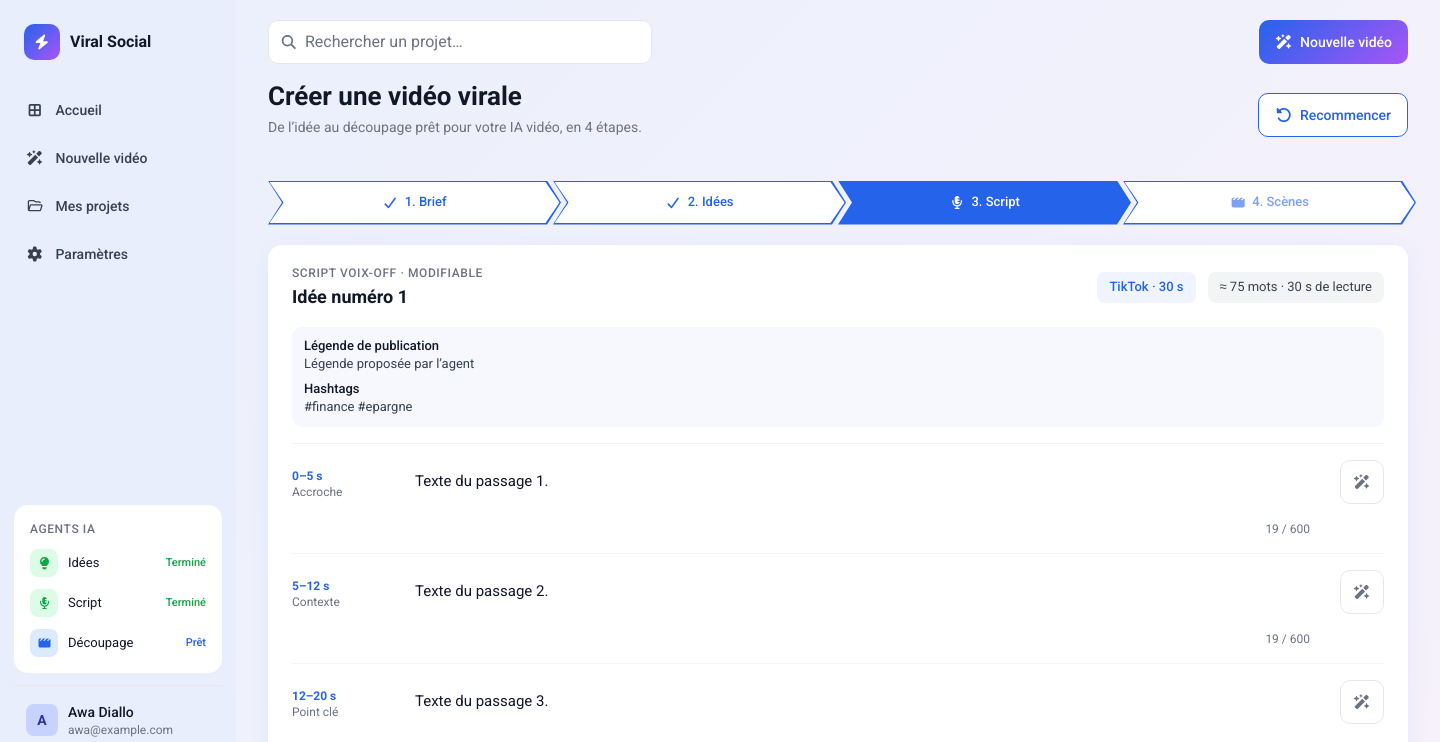
Test: ProjectWizard › permet de revenir à une étape validée sans changer le statut
Click the button "1. Brief" at (414, 202), box [270, 182, 560, 223]
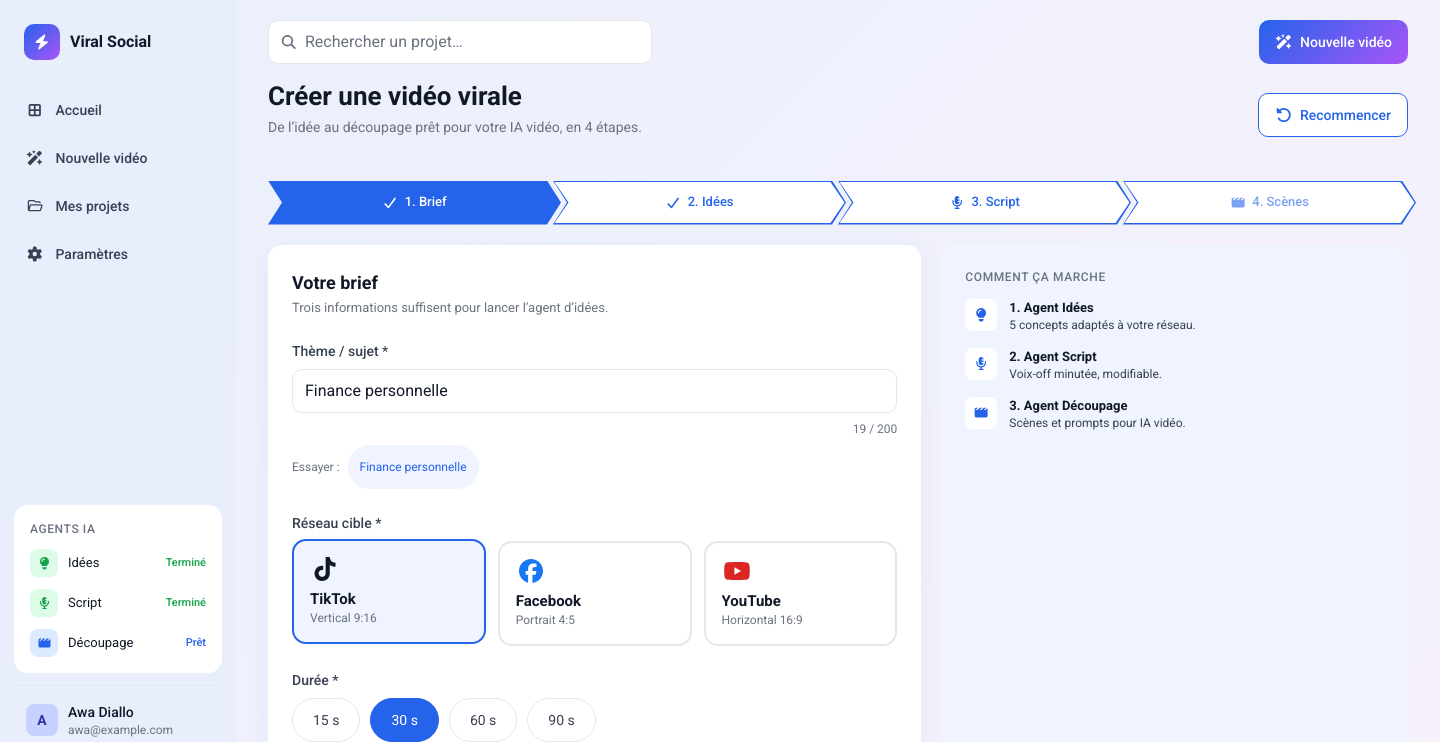
Result: the field labelled "Thème / sujet *" holds "Finance personnelle" at [292, 369, 897, 413]
